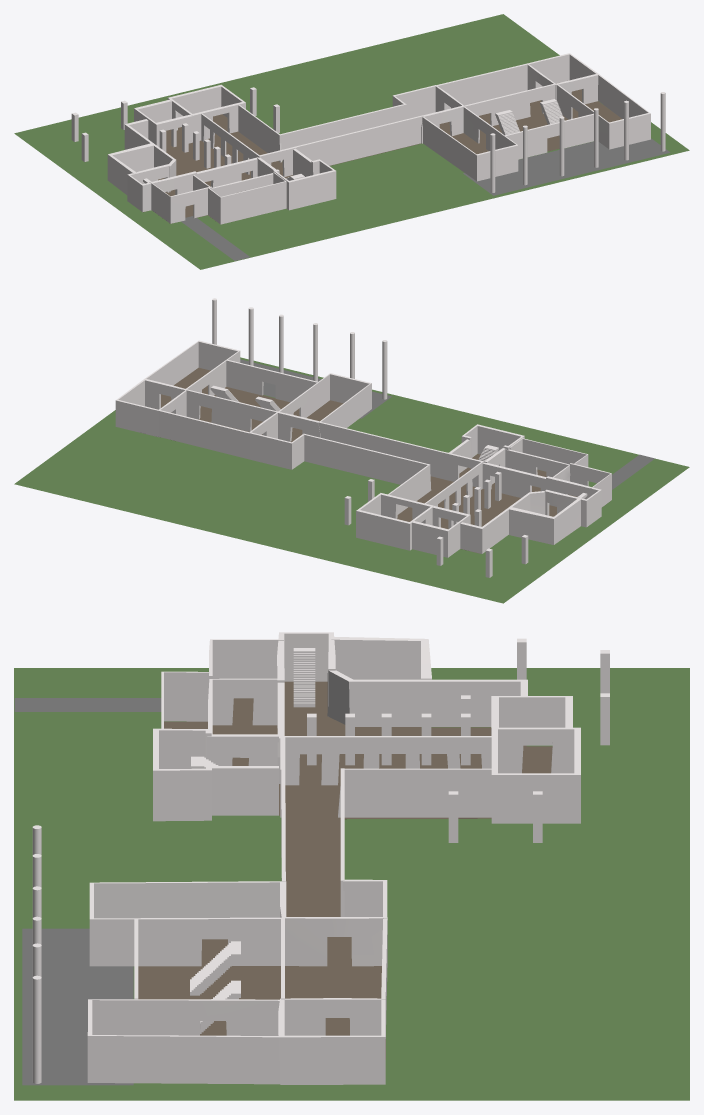
The model's file is ground.glb.
The picture shows the model from 3 angles, top to bottom: view 1: azimuth 30°, elevation 25°; view 2: azimuth 150°, elevation 25°; view 3: azimuth 270°, elevation 25°; orthographic projection. The views are drawn at different scales.
Visible parts, largest first — view 1: Plane001, Box060, Plane002 (×2), Box063, Box062, Box211, room 27, Floor, Box149, Room030, Box064, Courtyard (+13 smaller); view 2: Plane001, Box060, Box062, Courtyard, Box063, Room030, Box061, Box149, Box211, Box064, room 27, Room 30 (+12 smaller); view 3: Plane001, Box211, Box063, Floor, room 27, Plane002 (×2), Floor001, Box149, Courtyard, Room030, Box061, Room 33 (+12 smaller).
Boxes of the visible parts, left/top/right/bottom form: Plane001: left=14, top=14, right=689, bottom=269; Box060: left=278, top=103, right=422, bottom=165; Plane002 (×2): left=181, top=138, right=670, bottom=260; Box063: left=422, top=107, right=518, bottom=181; Box062: left=464, top=83, right=593, bottom=159; Box211: left=556, top=74, right=650, bottom=149; room 27: left=201, top=104, right=297, bottom=176; Floor: left=143, top=114, right=421, bottom=223; Box149: left=527, top=53, right=598, bottom=104; Room030: left=167, top=84, right=245, bottom=142; Box064: left=436, top=63, right=527, bottom=109; Courtyard: left=124, top=119, right=258, bottom=191; Plane001: left=14, top=357, right=689, bottom=603; Box060: left=302, top=421, right=446, bottom=491; Box062: left=186, top=359, right=318, bottom=435; Courtyard: left=460, top=462, right=546, bottom=553; Box063: left=278, top=373, right=371, bottom=428; Room030: left=356, top=493, right=433, bottom=550; Box061: left=249, top=411, right=320, bottom=469; Box149: left=115, top=379, right=186, bottom=437; Box211: left=144, top=340, right=240, bottom=395; Box064: left=158, top=410, right=249, bottom=459; room 27: left=388, top=452, right=483, bottom=514; Room 30: left=509, top=498, right=581, bottom=544; Plane001: left=14, top=668, right=689, bottom=1100; Box211: left=87, top=999, right=281, bottom=1084; Box063: left=89, top=881, right=281, bottom=966; Floor: left=164, top=681, right=552, bottom=916; room 27: left=280, top=736, right=491, bottom=817; Plane002 (×2): left=14, top=698, right=161, bottom=1085; Floor001: left=138, top=937, right=385, bottom=1059; Box149: left=278, top=998, right=385, bottom=1084; Courtyard: left=277, top=670, right=527, bottom=783; Room030: left=491, top=727, right=580, bottom=823; Box061: left=280, top=879, right=387, bottom=966; Room 33: left=207, top=734, right=278, bottom=815.
Bounding box in the file's own units: 3.52 × 0.4291 × 2.32.
